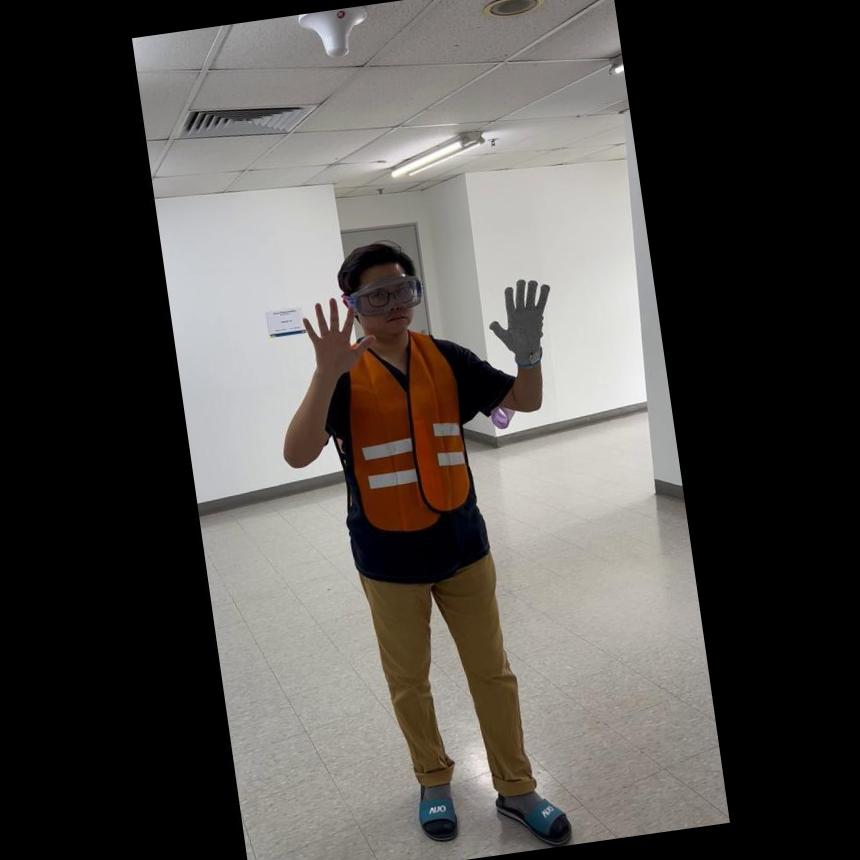Gloves: (481, 270, 558, 368)
No-gloves: (293, 286, 373, 379)
